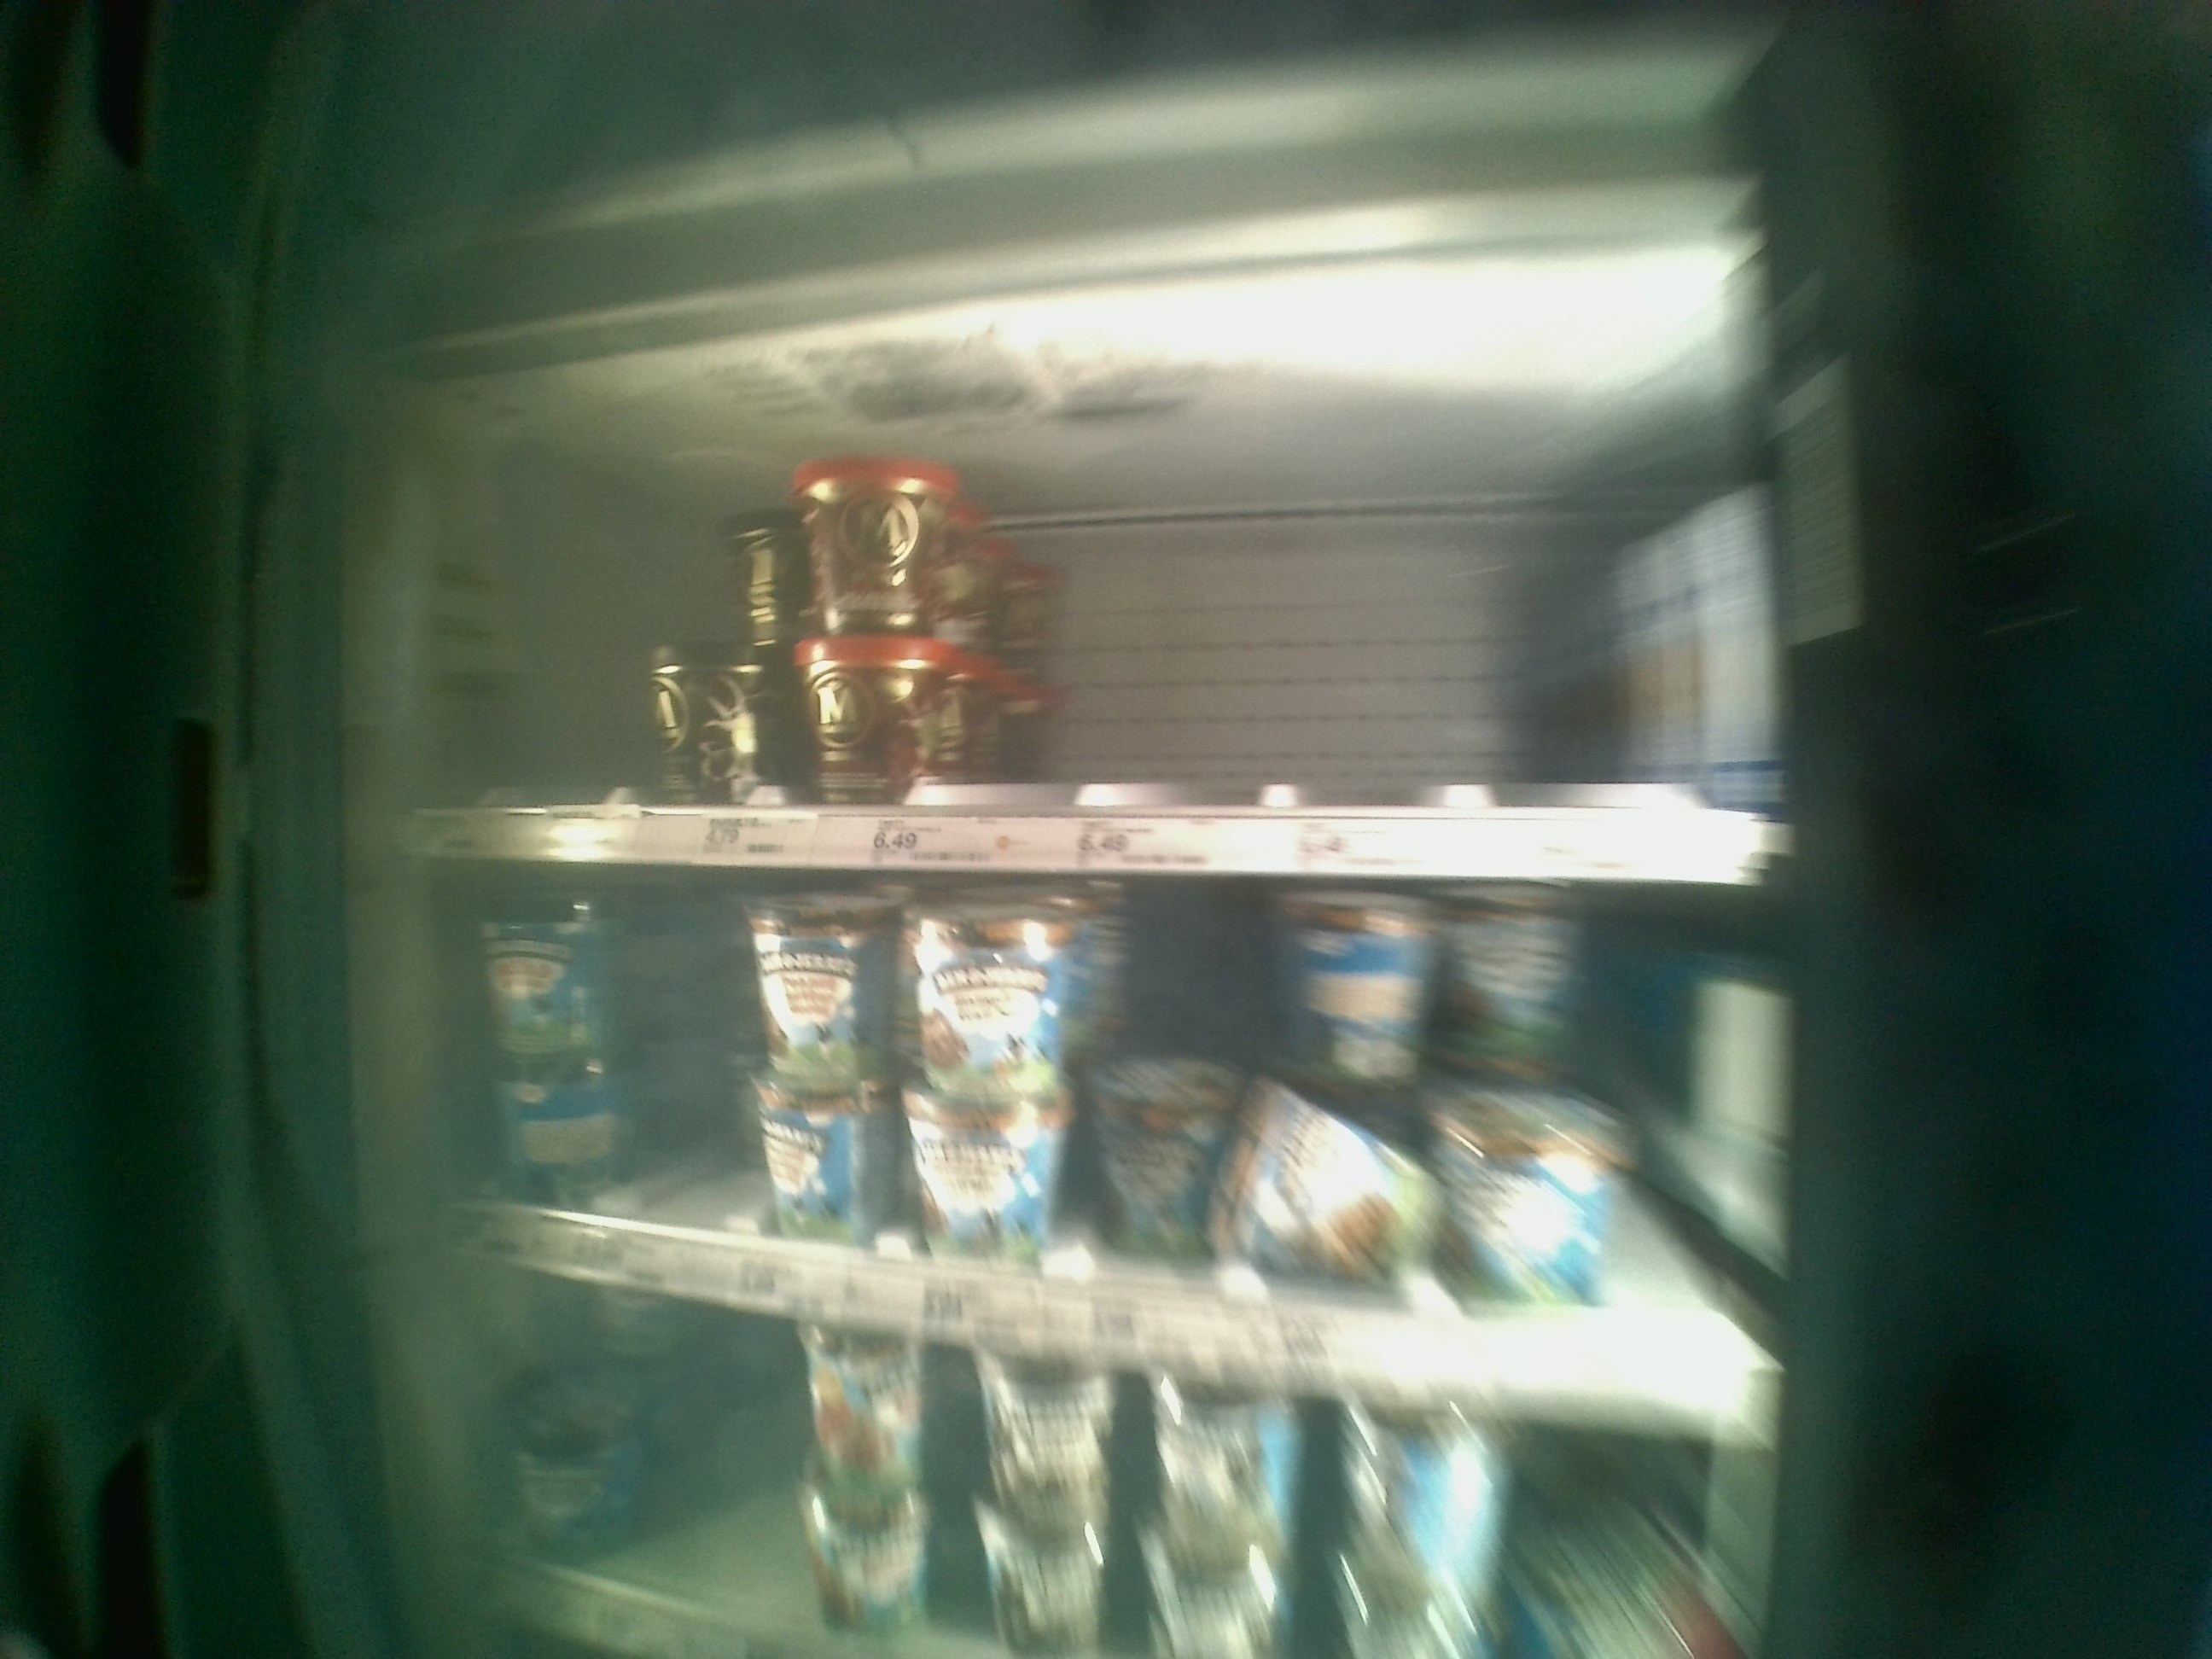shelf: (462, 857, 1810, 1441), (460, 364, 1801, 864)
